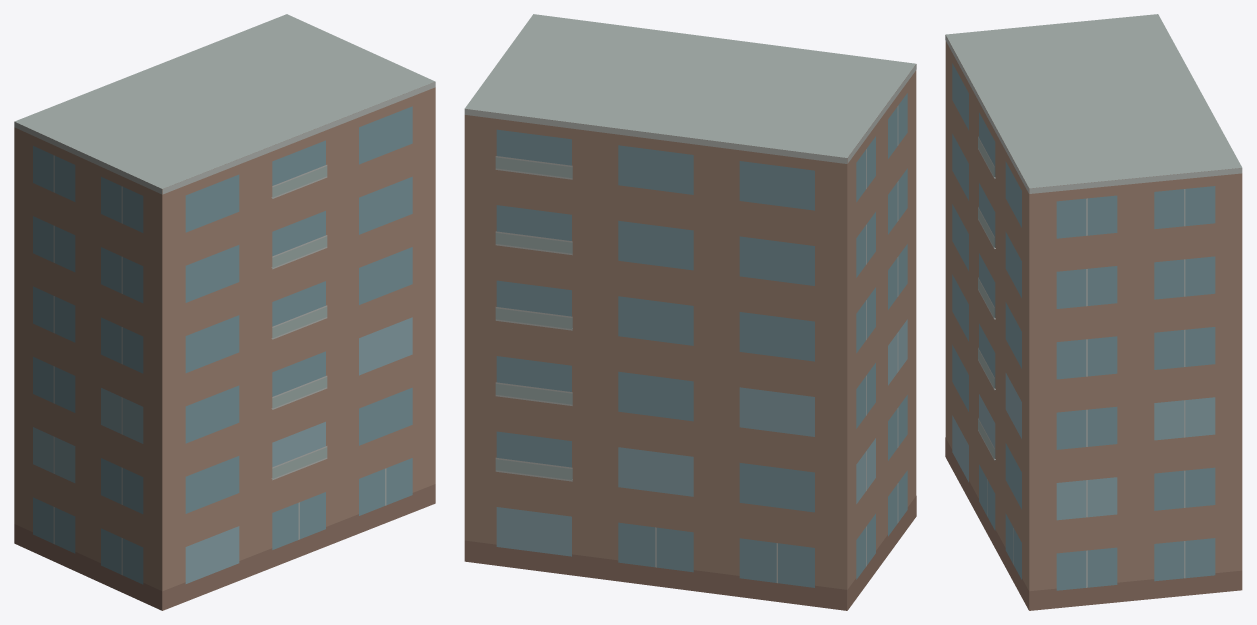
Rendered from survey-upis-32527572.glb.
The picture shows the model from 3 angles, left to right: view 1: azimuth 30°, elevation 25°; view 2: azimuth 150°, elevation 25°; view 3: azimuth 270°, elevation 25°; orthographic projection. The views are drawn at different scales.
Visible parts, largest first — view 1: survey-upis-32527572.tmp; view 2: survey-upis-32527572.tmp; view 3: survey-upis-32527572.tmp.
Boxes of the visible parts, left/top/right/bottom form: survey-upis-32527572.tmp: left=14, top=14, right=435, bottom=610; survey-upis-32527572.tmp: left=464, top=14, right=916, bottom=610; survey-upis-32527572.tmp: left=945, top=14, right=1242, bottom=610.
Size of the model in its own units: 16.22 by 18.3 by 11.67.
